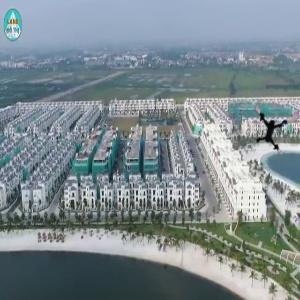drone: (247, 101, 298, 152)
